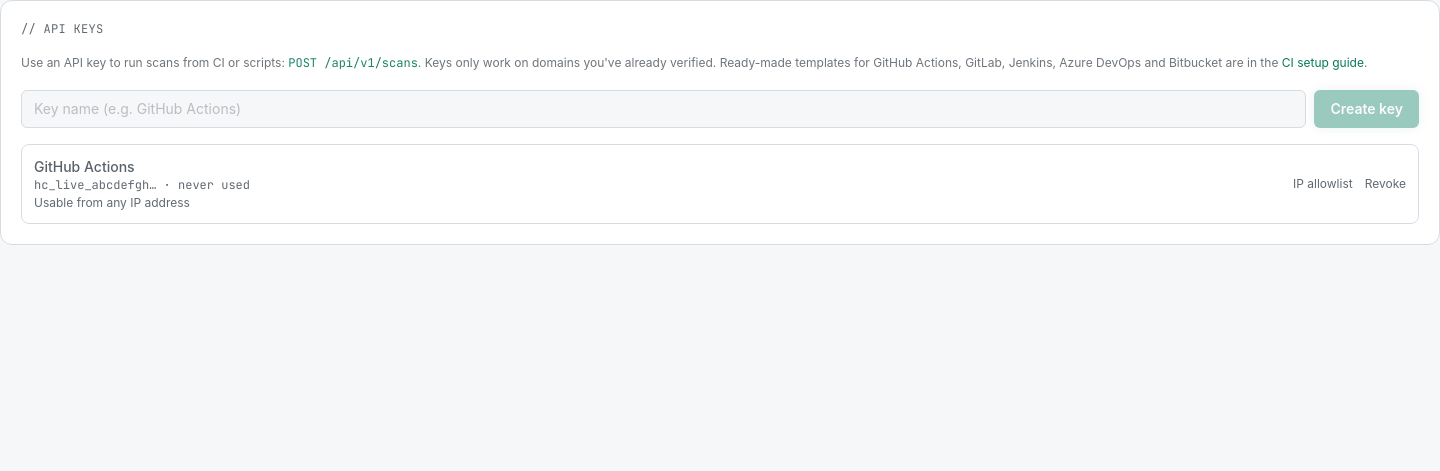
Test: ApiKeys IP allowlist › adds the caller's current IP and saves the list
Click the button "IP allowlist" at (1323, 184), box [1293,176,1353,192]
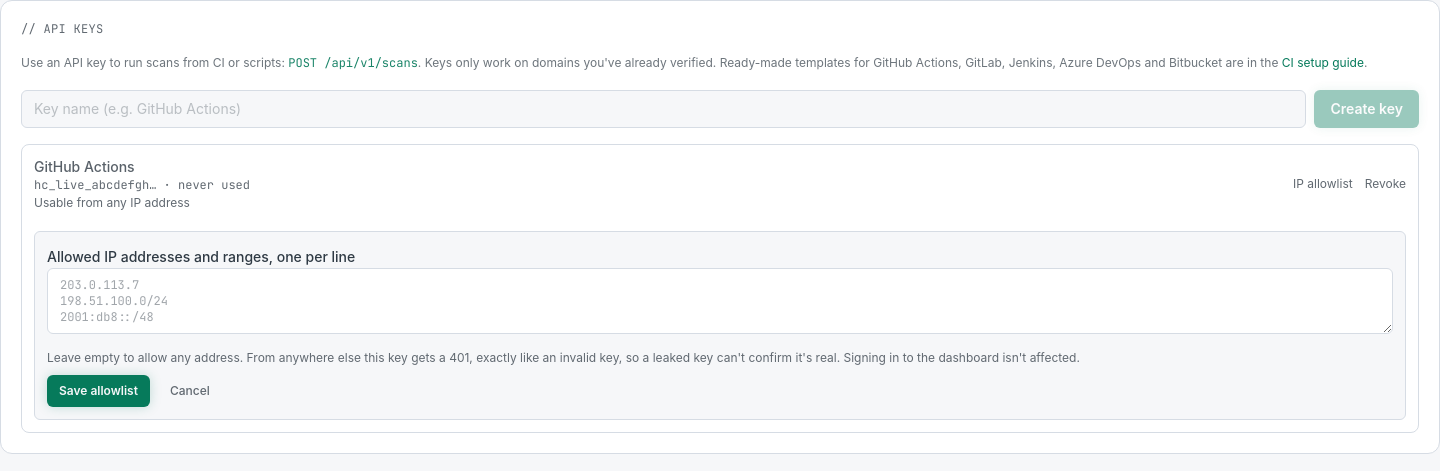
Type "198.51.100.0/24" into the text box labelled "Allowed IP addresses and ranges, one per line" at (720, 300), box [47,268,1393,334]
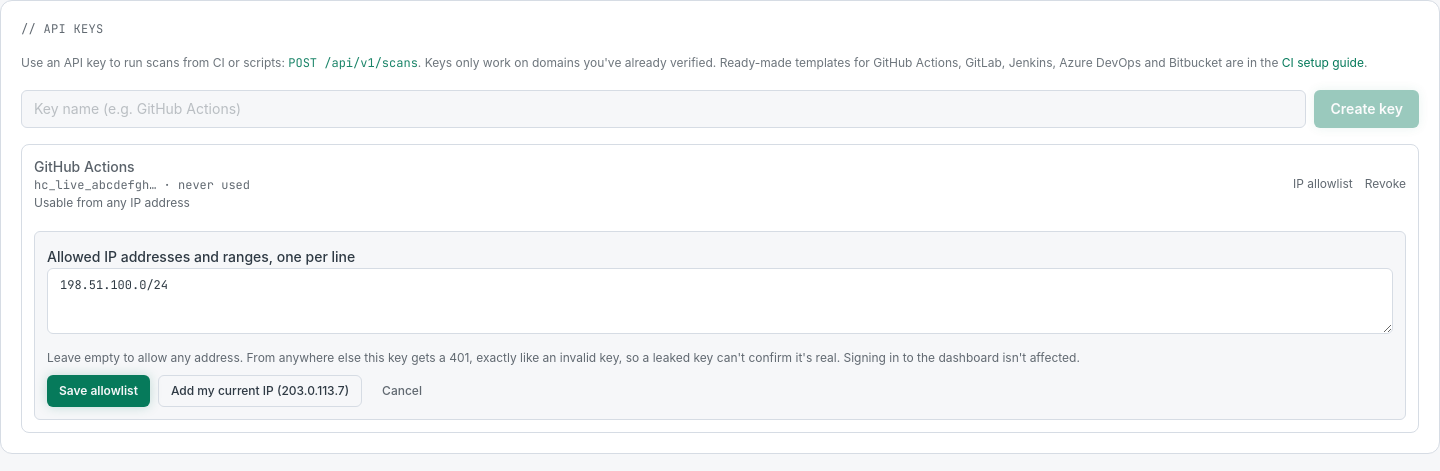
Click the button "Add my current IP (203.0.113.7)" at (260, 391), box [158,375,362,407]
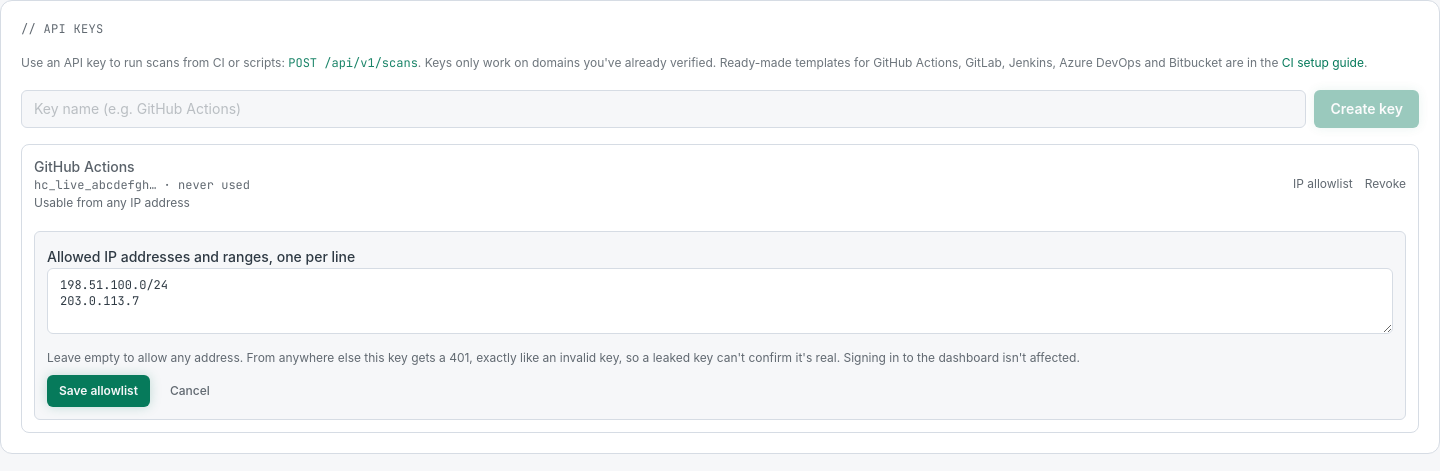
Check: the button "Add my current IP" is gone
Click the button "Save allowlist" at (98, 391), box [47,375,150,407]
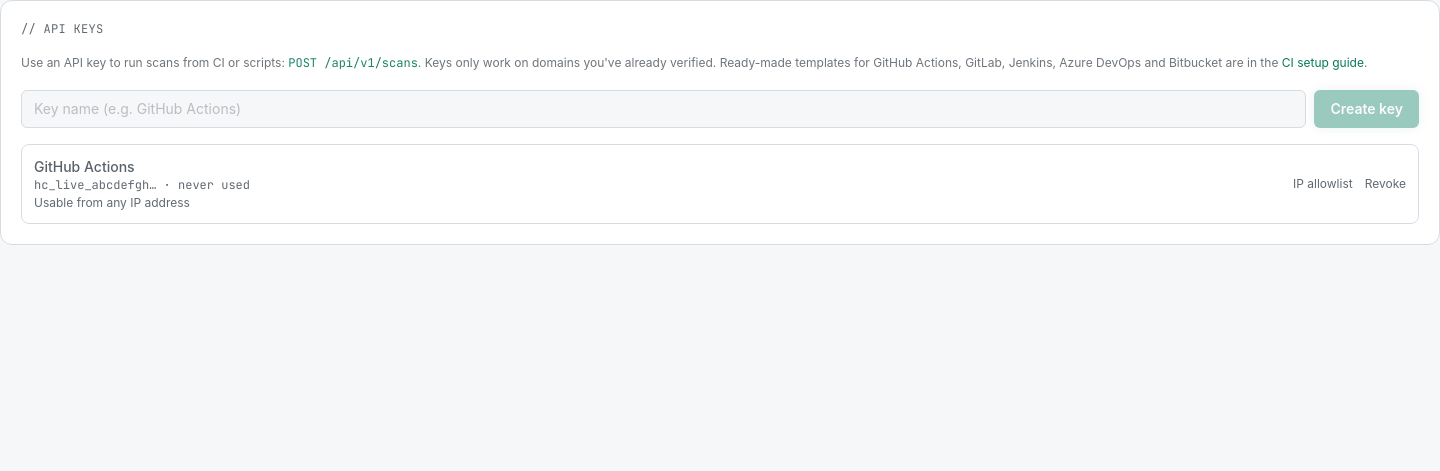
Check: the label labelled "Allowed IP addresses" is gone
